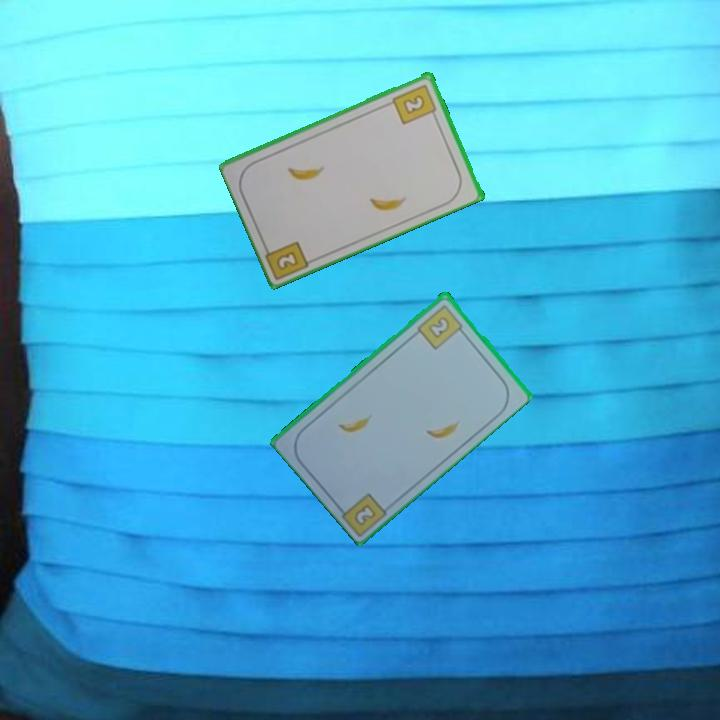2b: (414, 300, 468, 352), (389, 80, 440, 127), (350, 500, 379, 528), (273, 247, 301, 273)
